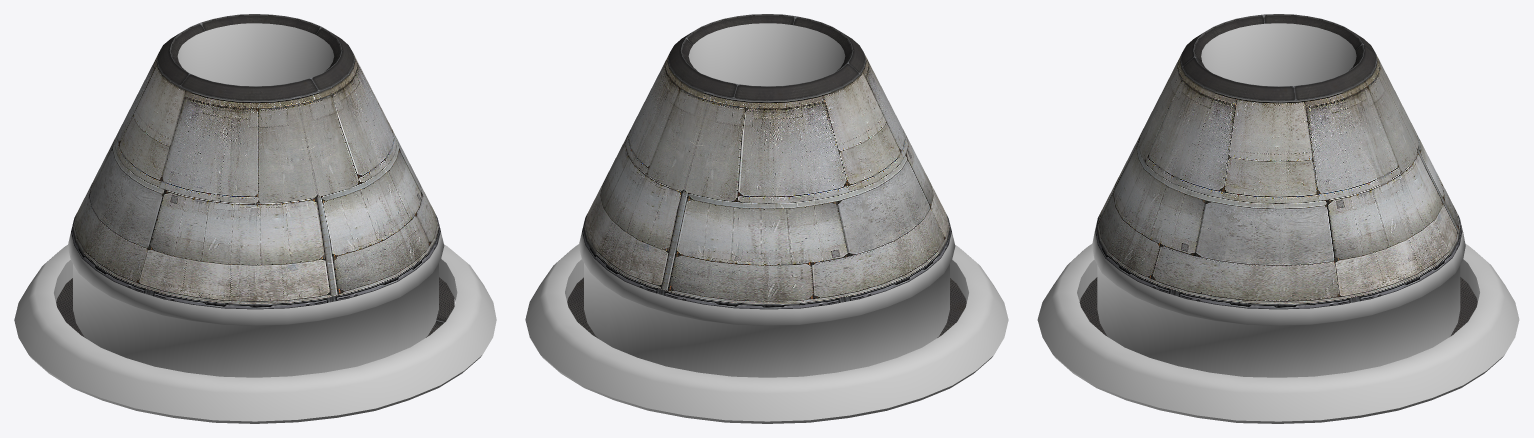
The model's file is CylTube_00.fbx.
3 renders of one model, left to right at view 1: azimuth 30°, elevation 25°; view 2: azimuth 150°, elevation 25°; view 3: azimuth 270°, elevation 25°, orthographic.
Visible parts, largest first — view 1: CylTube_00; view 2: CylTube_00; view 3: CylTube_00.
Part boxes in pixels (x1,y1,x2,y2): CylTube_00: (14,14,496,423); CylTube_00: (525,14,1008,423); CylTube_00: (1037,14,1519,423).
Size of the model in its own units: 800 by 500 by 800.
